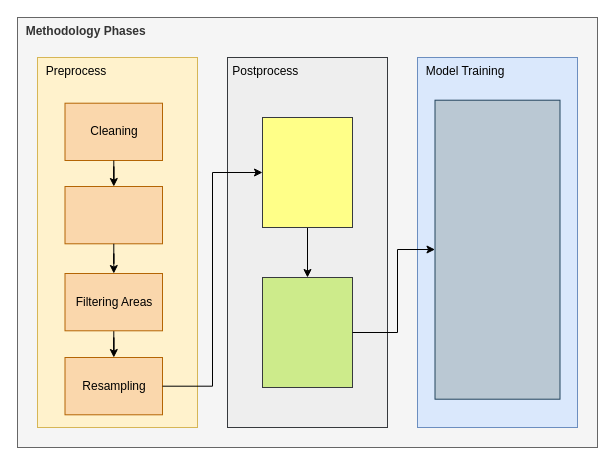
Some shapes in this 615 by 465 pixel diagram are drawn without their labels. Each missing label, with the box of its shape:
CNN-2D: (434, 99, 560, 399)
Genetic Algorithm: (262, 116, 352, 228)
Matrices Construction: (262, 276, 352, 388)
Transformation: (64, 186, 162, 244)
